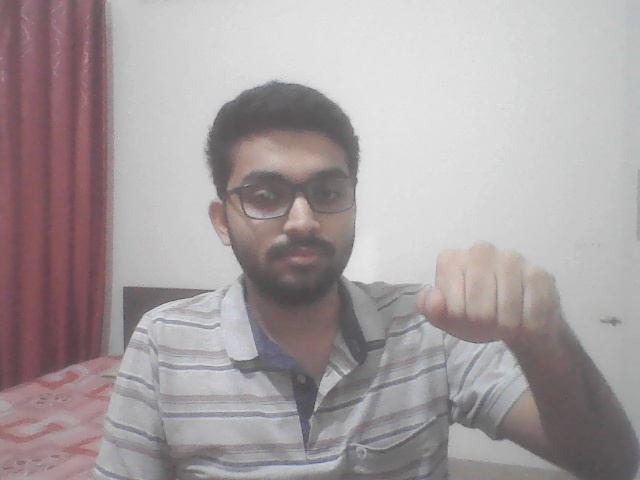yes: (402, 219, 589, 357)
